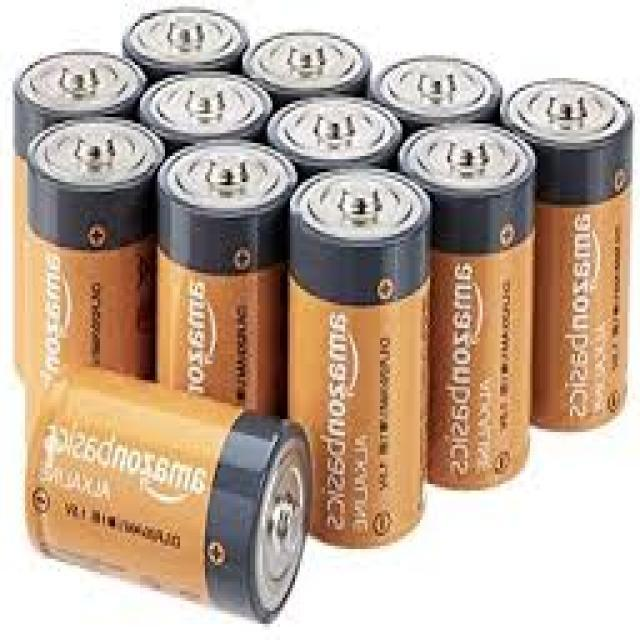battery: (27, 367, 310, 620), (285, 162, 430, 548), (397, 122, 540, 493), (26, 114, 164, 464), (505, 75, 633, 434), (11, 48, 145, 380), (156, 138, 296, 418), (138, 62, 273, 147), (266, 90, 401, 172), (374, 51, 502, 129), (118, 1, 250, 76), (241, 27, 371, 97)
